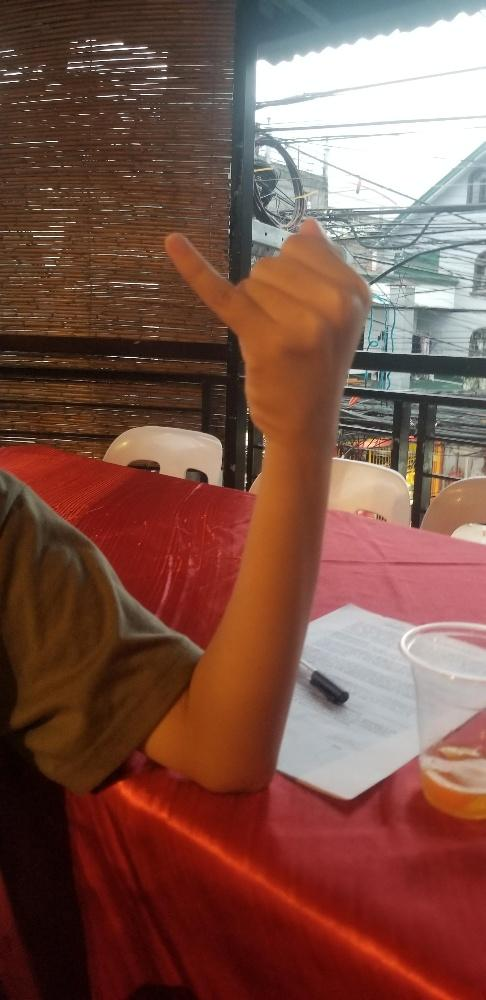j: (162, 216, 372, 436)
